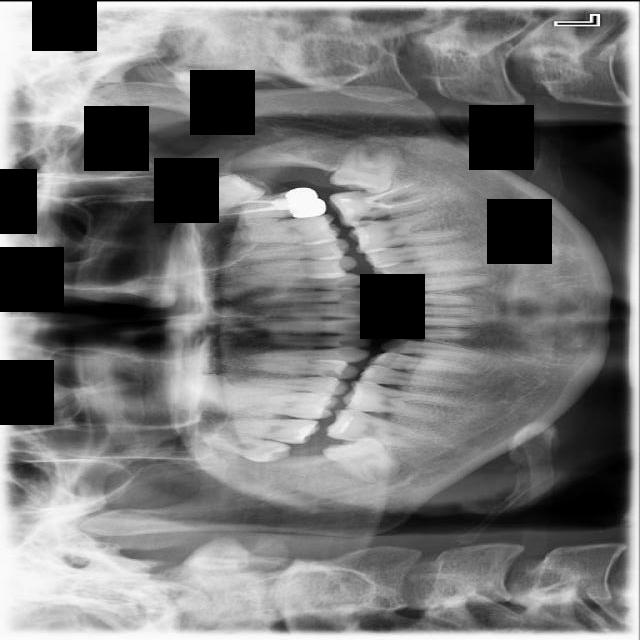3M ESPE Implant: (198, 427, 293, 466)
52: (278, 187, 327, 217)
73: (365, 170, 445, 220), (196, 192, 284, 224), (550, 54, 558, 61)
BioHorizons Implant: (199, 186, 327, 221)
BioLife Implant: (178, 168, 268, 216)
Biomet 3i Implant: (328, 138, 404, 196)
Blue Sky Bio Implant: (327, 174, 444, 230)
Caries: (212, 415, 322, 444)
Implant: (323, 404, 434, 453)
Keystone Dental Implant: (321, 416, 405, 495)
